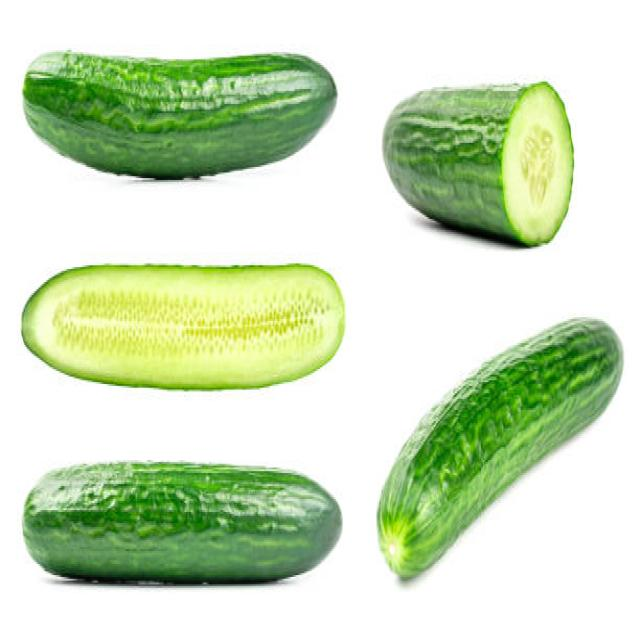cucumber: (377, 313, 622, 576), (20, 48, 337, 184), (22, 260, 343, 394), (22, 460, 342, 583), (382, 80, 575, 249)
